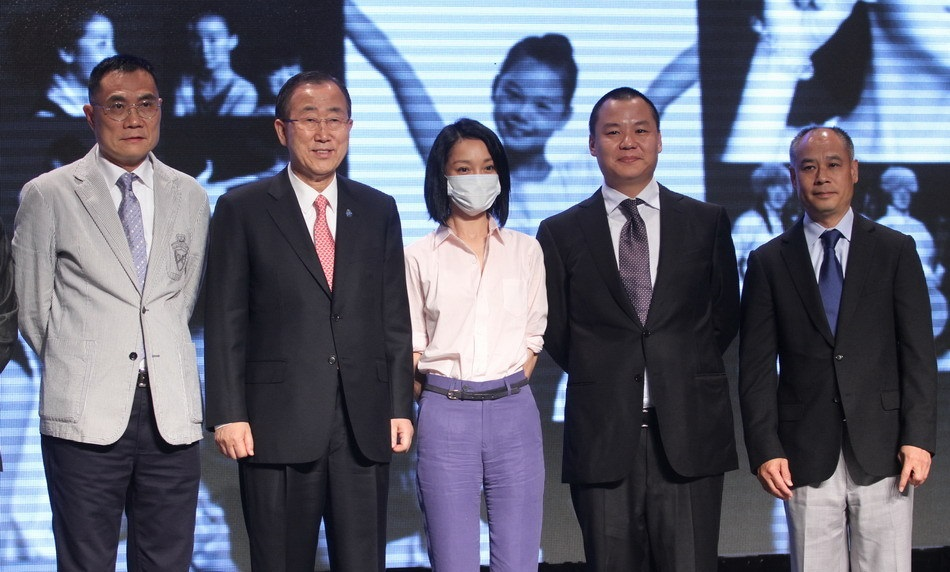face: (94, 72, 163, 157), (496, 65, 563, 147), (287, 89, 349, 172), (190, 25, 228, 67)
face_mask: (600, 101, 653, 180), (799, 135, 852, 212), (448, 139, 501, 216)
